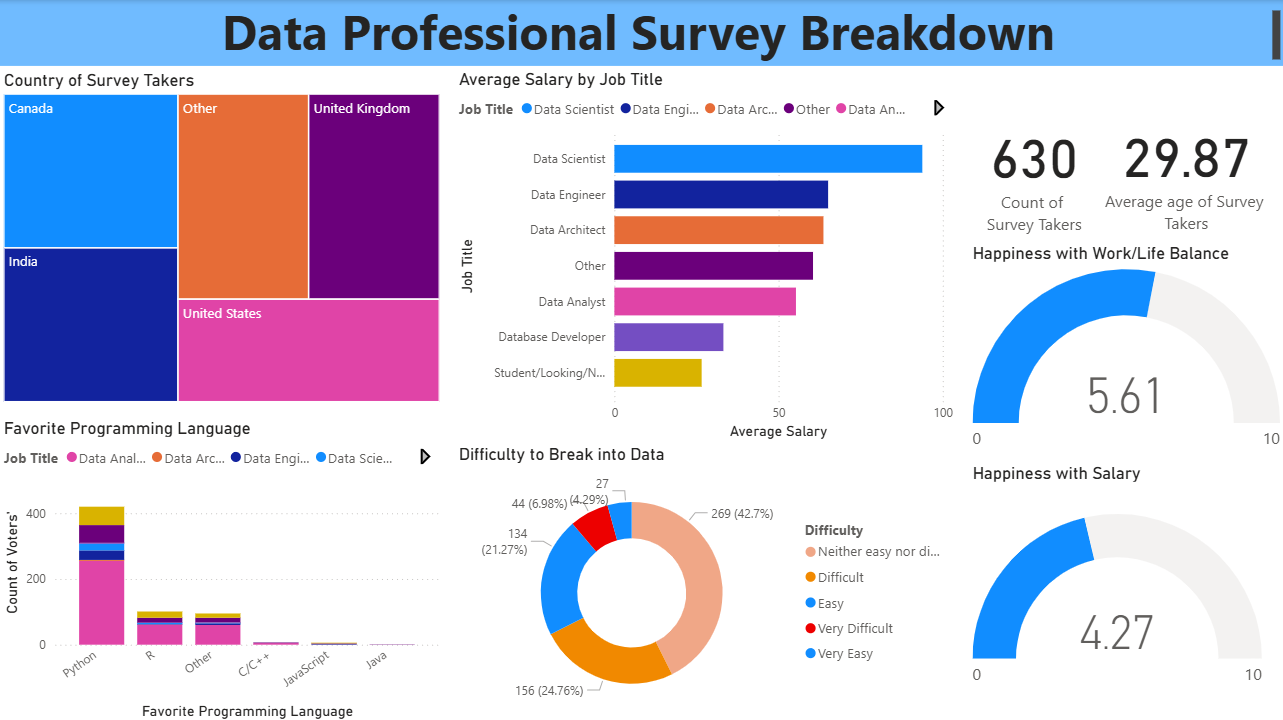

The page's visual inventory and layout, read from the dashboard file:
{"tool":"powerbi","page":{"name":"Page 1","canvas":[1280,720],"ordinal":0},"visuals":[{"type":"textbox","box":[0,0,1280.3,67.2],"z":0},{"type":"card","fields":{"Values":["CountNonNull(Data Professional Survey.Unique ID)"]},"box":[978.2,66.5,105.3,192.6],"z":1000},{"type":"card","fields":{"Values":["Avg(Data Professional Survey.Q10 - Current Age)"]},"box":[1083.5,66.5,196.8,191.2],"z":2000},{"type":"barChart","title":"Average Salary by Job Title","fields":{"Category":["Data Professional Survey.Q1 - Which Title Best Fits your Current Role?.1"],"Y":["Avg(Data Professional Survey.Average Salary)"],"Series":["Data Professional Survey.Q1 - Which Title Best Fits your Current Role?.1"]},"box":[453.1,67.9,501.6,374.1],"z":3000},{"type":"columnChart","title":"Favorite Programming Language","fields":{"Category":["Data Professional Survey.Q5 - Favorite Programming Language.1"],"Y":["CountNonNull(Data Professional Survey.Unique ID)"],"Series":["Data Professional Survey.Q1 - Which Title Best Fits your Current Role?.1"]},"box":[0,415.7,443.4,304.8],"z":4000},{"type":"treemap","title":"Country of Survey Takers","fields":{"Group":["Data Professional Survey.Q11 - Which Country do you live in?.1"],"Values":["Count(Data Professional Survey.Q11 - Which Country do you live in?.1)"]},"box":[0,69.3,443.4,335.3],"z":5000},{"type":"gauge","title":"Happiness with Work/Life Balance","fields":{"Y":["Avg(Data Professional Survey.Q6 - How Happy are you in your Current Position with the following? (Learning New Things))"],"MinValue":["Min(Data Professional Survey.Q6 - How Happy are you in your Current Position with the following? (Learning New Things))"],"MaxValue":["Max(Data Professional Survey.Q6 - How Happy are you in your Current Position with the following? (Learning New Things))1"]},"box":[964.4,241.1,315.9,218.9],"z":6000},{"type":"gauge","title":"Happiness with Salary","fields":{"Y":["Avg(Data Professional Survey.Q6 - How Happy are you in your Current Position with the following? (Salary))"],"MinValue":["Min(Data Professional Survey.Q6 - How Happy are you in your Current Position with the following? (Salary))"],"MaxValue":["Max(Data Professional Survey.Q6 - How Happy are you in your Current Position with the following? (Salary))"]},"box":[964.4,460,297.9,259.1],"z":7000},{"type":"donutChart","title":"Difficulty to Break into Data","fields":{"Category":["Data Professional Survey.Q7 - How difficult was it for you to break into Data?"],"Y":["CountNonNull(Data Professional Survey.Q7 - How difficult was it for you to break into Data?)"]},"box":[453,442,502,278],"z":8000}]}

Visuals, with their boxes in screenshot pixels (x1, y1, x2, y2), scaled from the page's 1280x720 canvas onto the 1283x720 screenshot:
textbox: <bbox>0, 0, 1282, 67</bbox>
card - CountNonNull(Data Professional Survey.Unique ID): <bbox>980, 66, 1086, 259</bbox>
card - Avg(Data Professional Survey.Q10 - Current Age): <bbox>1086, 66, 1282, 258</bbox>
"Average Salary by Job Title" barChart: <bbox>454, 68, 957, 442</bbox>
"Favorite Programming Language" columnChart: <bbox>0, 416, 444, 719</bbox>
"Country of Survey Takers" treemap: <bbox>0, 69, 444, 405</bbox>
"Happiness with Work/Life Balance" gauge: <bbox>967, 241, 1282, 460</bbox>
"Happiness with Salary" gauge: <bbox>967, 460, 1265, 719</bbox>
"Difficulty to Break into Data" donutChart: <bbox>454, 442, 957, 719</bbox>
